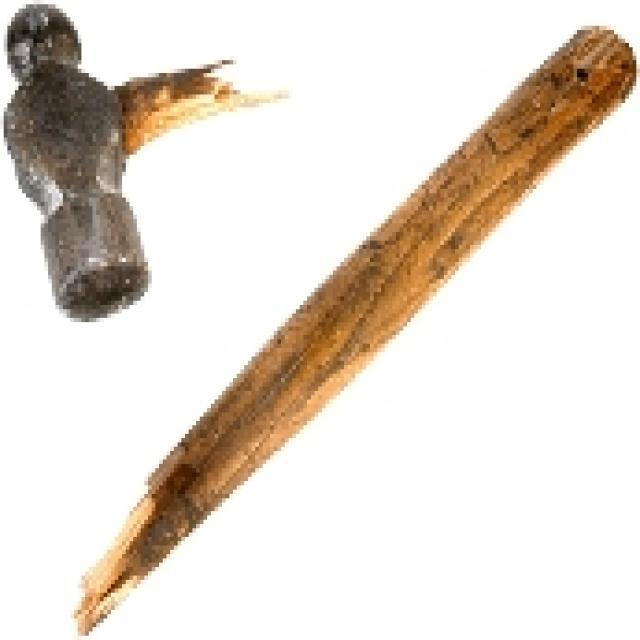hammer: (0, 0, 246, 345)
